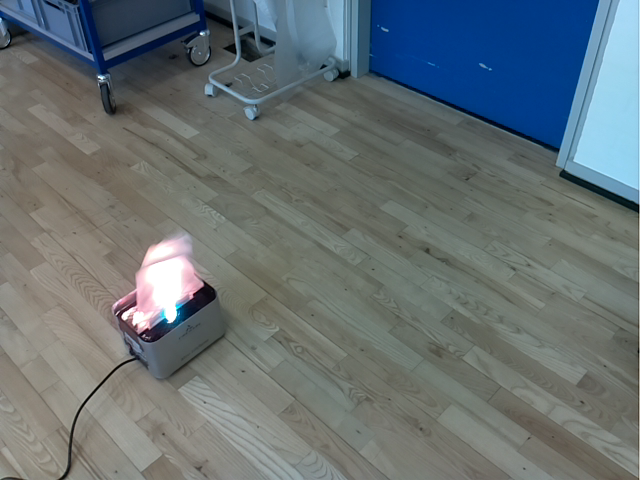fire: (135, 231, 205, 334)
